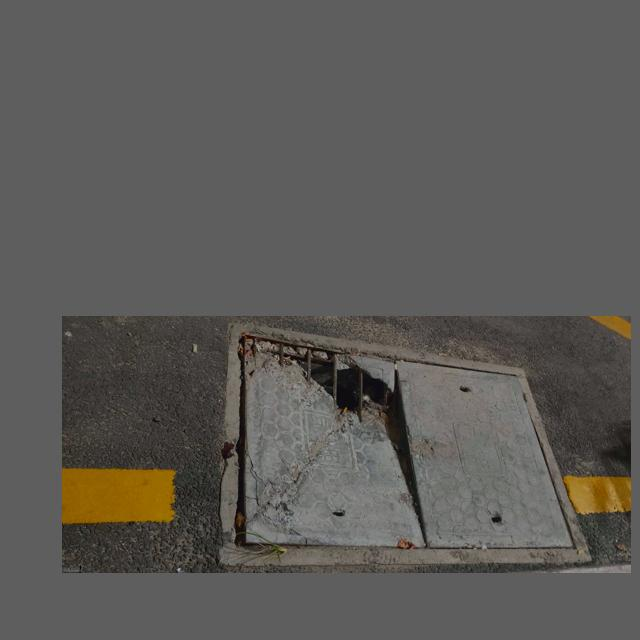broke: (218, 322, 594, 565)
